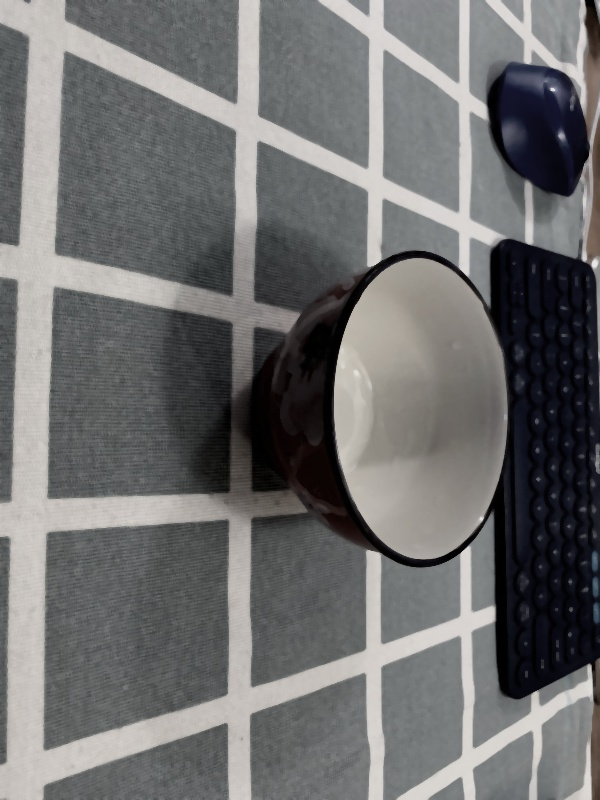bowl_small: (245, 241, 517, 572)
